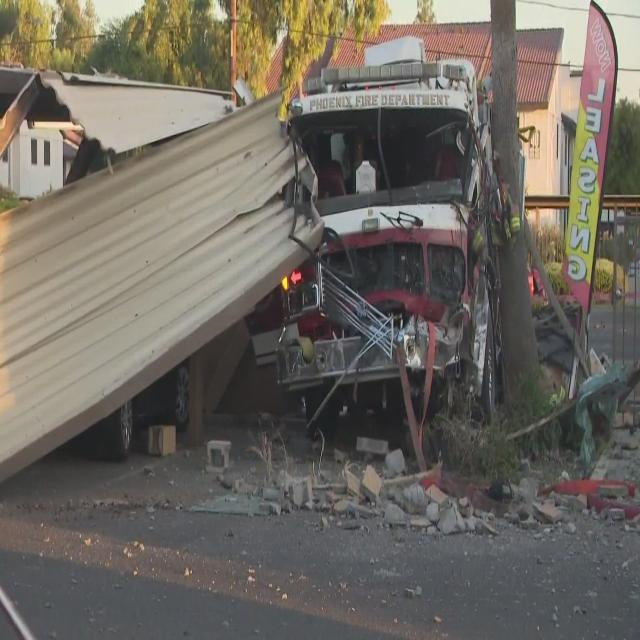accident: (278, 60, 520, 468)
